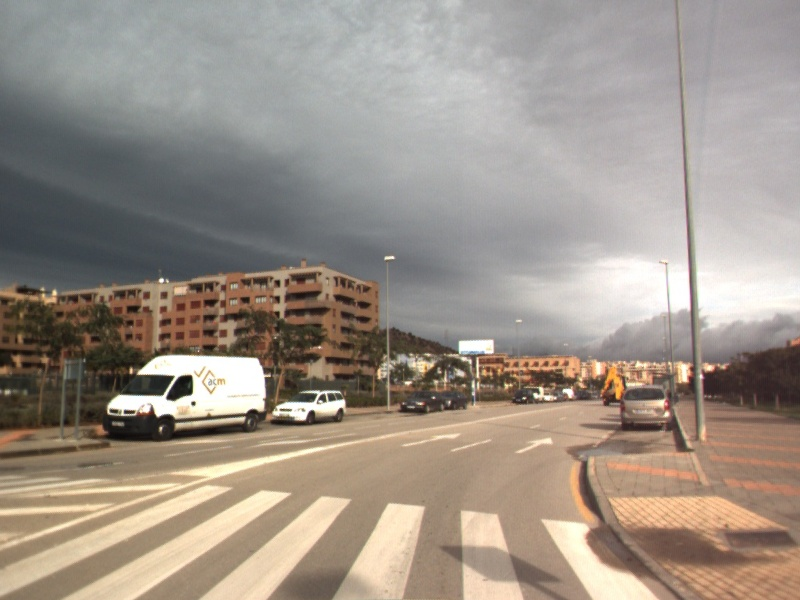STRAIGHT: (400, 430, 464, 448), (513, 435, 555, 455)
